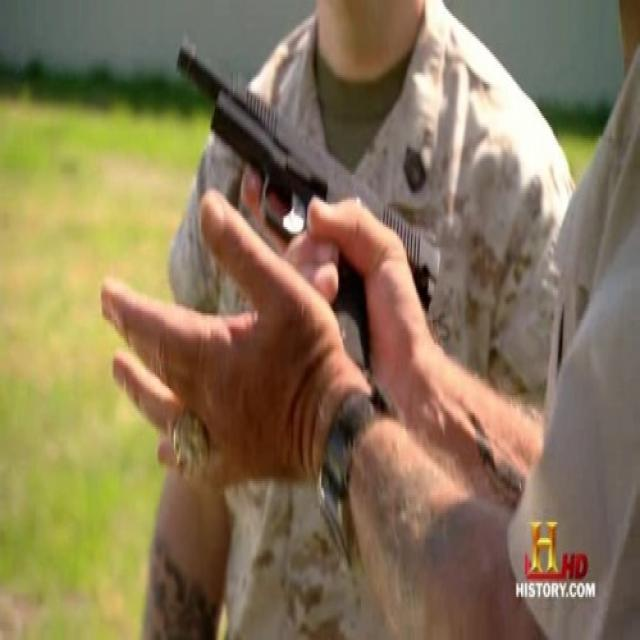weapons: (158, 14, 456, 366)
